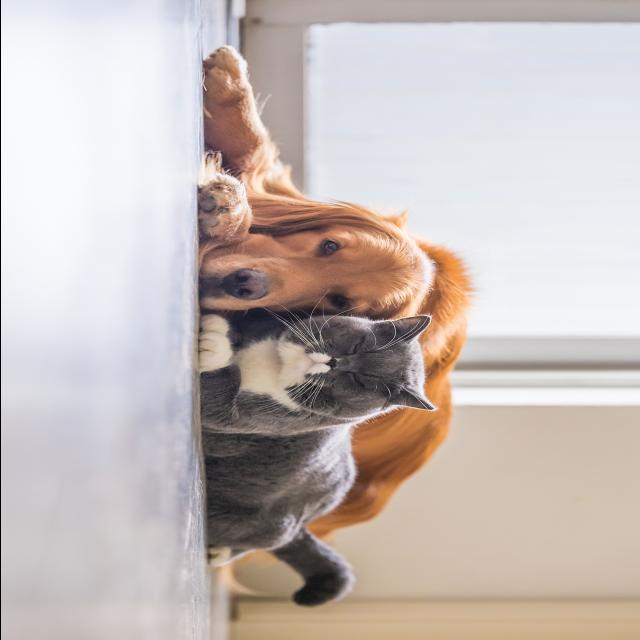cat: (196, 312, 440, 608)
dog: (185, 33, 493, 540)
